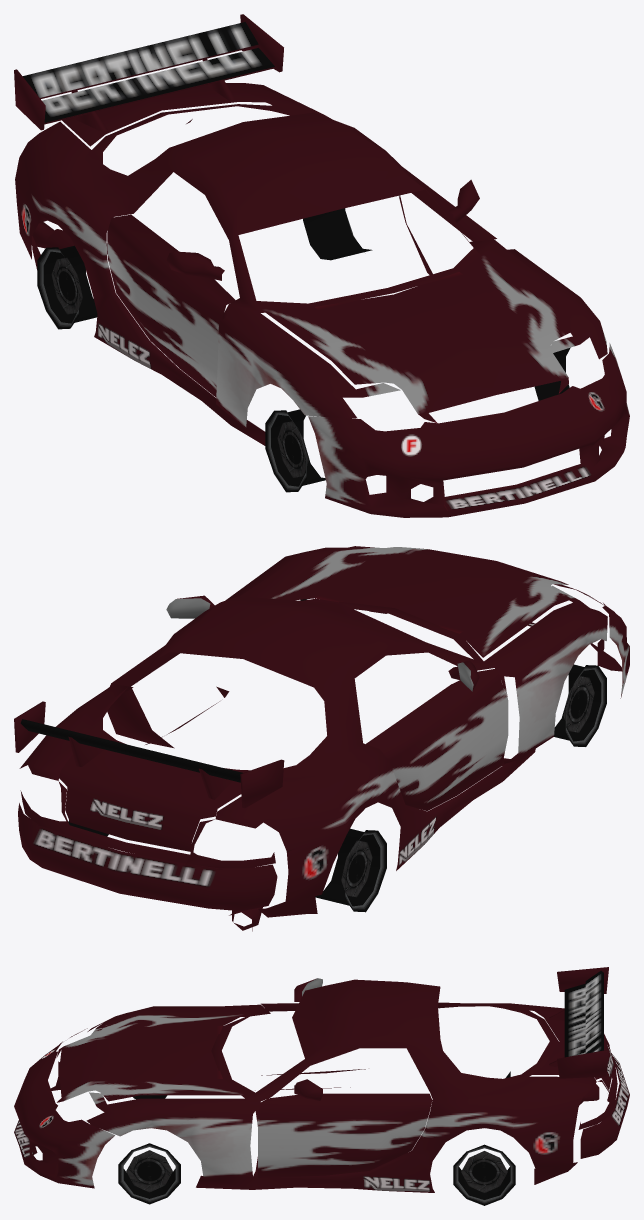
Rendered from car-SPRT_Car9.glb.
3 renders of one model, top to bottom at view 1: azimuth 30°, elevation 25°; view 2: azimuth 150°, elevation 25°; view 3: azimuth 270°, elevation 25°, orthographic. The views are drawn at different scales.
Parts seen in each view (by area): view 1: SPRT_Car9; view 2: SPRT_Car9; view 3: SPRT_Car9.
Part boxes in pixels (x1,y1,x2,y2): SPRT_Car9: (14, 14, 629, 517); SPRT_Car9: (14, 546, 629, 931); SPRT_Car9: (14, 967, 629, 1205).
Bounding box in the file's own units: 1.87 × 1.15 × 4.33.
19 materials, 19 textured.
